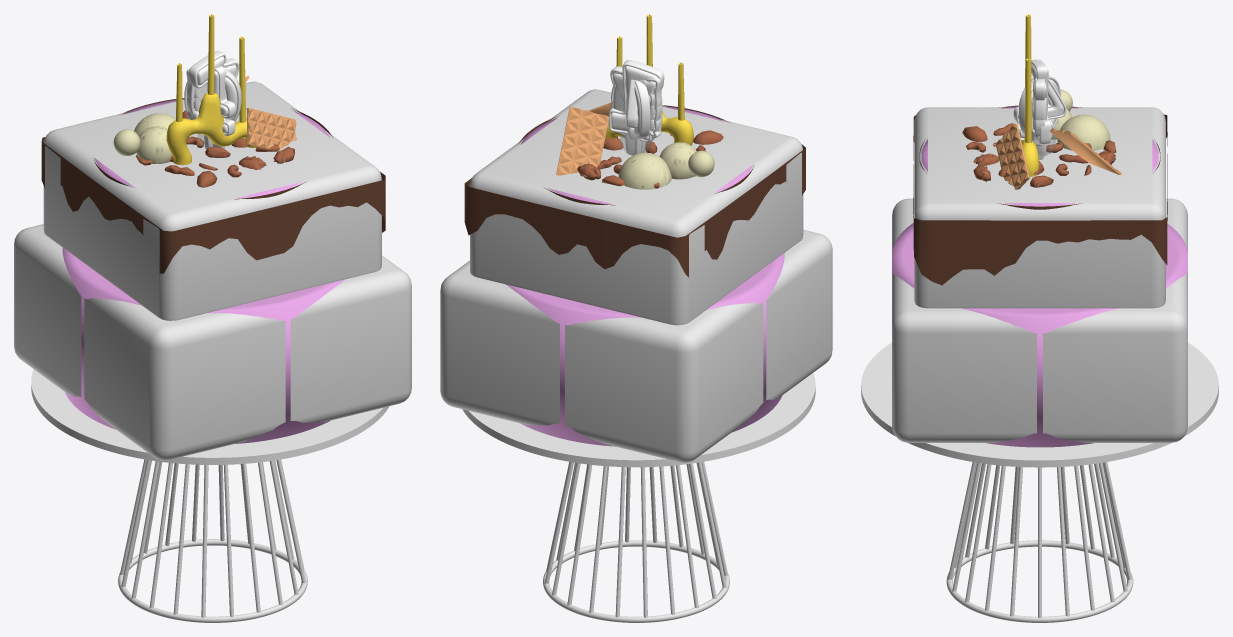
The model's file is tier2.gltf.
3 renders of one model, left to right at view 1: azimuth 30°, elevation 25°; view 2: azimuth 150°, elevation 25°; view 3: azimuth 270°, elevation 25°, orthographic.
Parts seen in each view (by area): view 1: Rectangle1st_layer, Rectangle2nd_layer, Base-2, icing_rectangle, round1st_layer, chandel, balls, nuts, bar, candle_1, candle_4, round2nd_layer (+1 smaller); view 2: Rectangle1st_layer, Rectangle2nd_layer, Base-2, icing_rectangle, round1st_layer, balls, bar, chandel, nuts, candle_1, candle_0, round2nd_layer (+2 smaller); view 3: Rectangle1st_layer, Rectangle2nd_layer, Base-2, icing_rectangle, round1st_layer, bar, nuts, balls, chandel, candle_4, candle_1, round2nd_layer (+1 smaller).
Boxes of the visible parts, x1,y1,x2,y2 form: Rectangle1st_layer: (14, 224, 411, 460); Rectangle2nd_layer: (43, 81, 381, 320); Base-2: (31, 369, 389, 622); icing_rectangle: (41, 137, 385, 273); round1st_layer: (62, 247, 345, 443); chandel: (166, 14, 256, 165); balls: (113, 113, 175, 163); nuts: (136, 110, 294, 187); bar: (245, 76, 296, 149); candle_1: (188, 50, 226, 149); candle_4: (213, 66, 235, 148); round2nd_layer: (94, 99, 330, 198); Rectangle1st_layer: (440, 229, 832, 462); Rectangle2nd_layer: (470, 89, 803, 325); Base-2: (462, 373, 815, 622); icing_rectangle: (464, 144, 805, 277); round1st_layer: (506, 253, 784, 446); balls: (618, 142, 714, 189); bar: (556, 102, 611, 175); chandel: (605, 14, 693, 145); nuts: (577, 130, 723, 188); candle_1: (608, 60, 664, 155); candle_0: (634, 80, 650, 154); round2nd_layer: (520, 106, 753, 204); Rectangle1st_layer: (892, 198, 1187, 442); Rectangle2nd_layer: (914, 107, 1165, 308); Base-2: (861, 342, 1218, 622); icing_rectangle: (913, 114, 1167, 285); round1st_layer: (892, 223, 1187, 447); bar: (996, 123, 1121, 189); nuts: (962, 123, 1116, 187); balls: (1051, 89, 1110, 150); chandel: (1019, 14, 1039, 176); candle_4: (1013, 73, 1066, 140); candle_1: (1031, 59, 1051, 158); round2nd_layer: (921, 106, 1158, 206).
Bounding box in the file's own units: 2.3 × 4.02 × 2.3.
